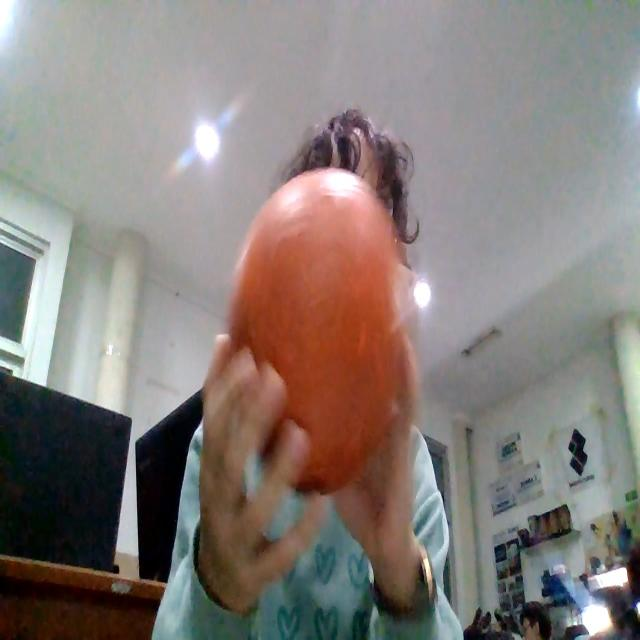ball: (227, 165, 415, 495)
